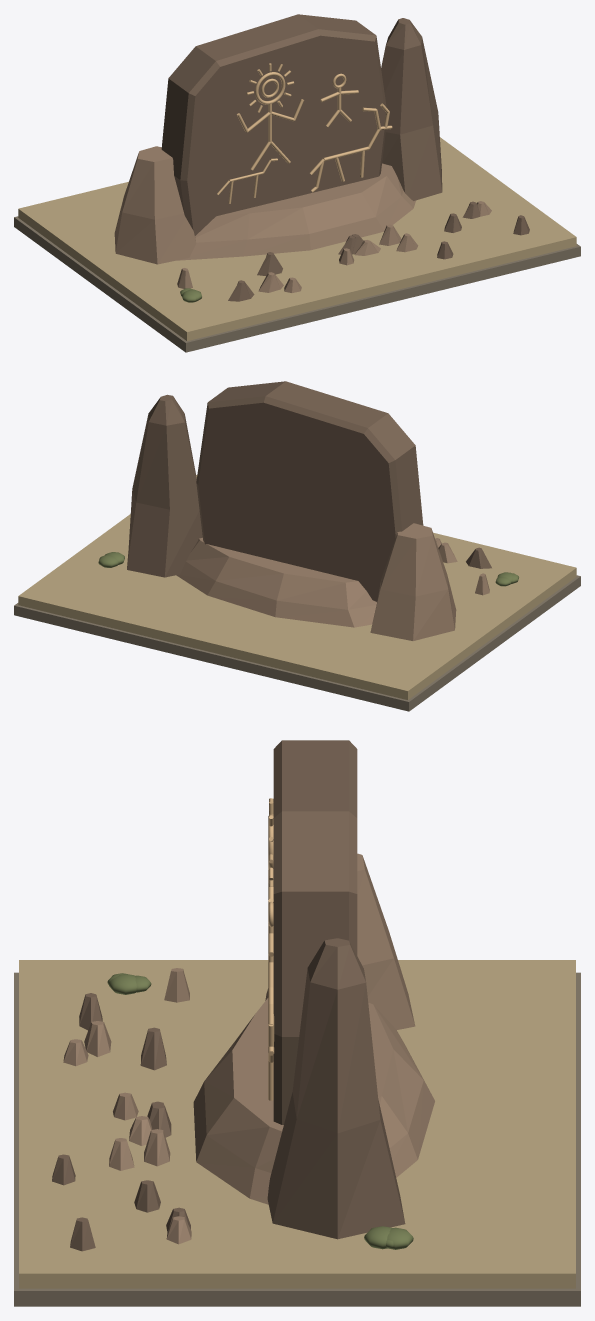
Rendered from tamgaly.glb.
The picture shows the model from 3 angles, top to bottom: view 1: azimuth 30°, elevation 25°; view 2: azimuth 150°, elevation 25°; view 3: azimuth 270°, elevation 25°; orthographic projection. The views are drawn at different scales.
Visible parts, largest first — view 1: Weathered petroglyph rock, Steppe earth, Petroglyph rock edges, Foundation edging, Ancient rock carving; view 2: Weathered petroglyph rock, Steppe earth, Petroglyph rock edges, Foundation edging, Sparse steppe vegetation; view 3: Steppe earth, Weathered petroglyph rock, Petroglyph rock edges, Foundation edging, Ancient rock carving, Sparse steppe vegetation.
Boxes of the visible parts, x1,y1,x2,y2 form: Weathered petroglyph rock: [161, 14, 529, 301]; Steppe earth: [18, 137, 576, 340]; Petroglyph rock edges: [114, 146, 491, 292]; Foundation edging: [14, 216, 580, 352]; Ancient rock carving: [217, 63, 392, 203]; Weathered petroglyph rock: [127, 381, 491, 601]; Steppe earth: [18, 475, 576, 699]; Petroglyph rock edges: [176, 523, 489, 640]; Foundation edging: [14, 575, 580, 711]; Sparse steppe vegetation: [98, 552, 518, 586]; Steppe earth: [19, 960, 575, 1288]; Weathered petroglyph rock: [52, 740, 405, 1251]; Petroglyph rock edges: [63, 853, 434, 1244]; Foundation edging: [14, 972, 580, 1306]; Ancient rock carving: [268, 798, 274, 1100]; Sparse steppe vegetation: [107, 973, 413, 1249].
Bounding box in the file's own units: 7.3 × 3.74 × 5.5.
